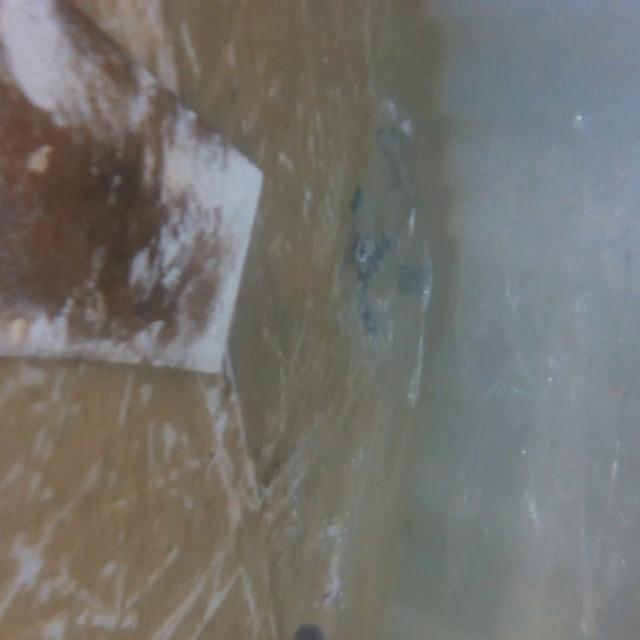metal: (0, 0, 264, 387)
plastic bags: (451, 91, 633, 616), (324, 115, 447, 404)
